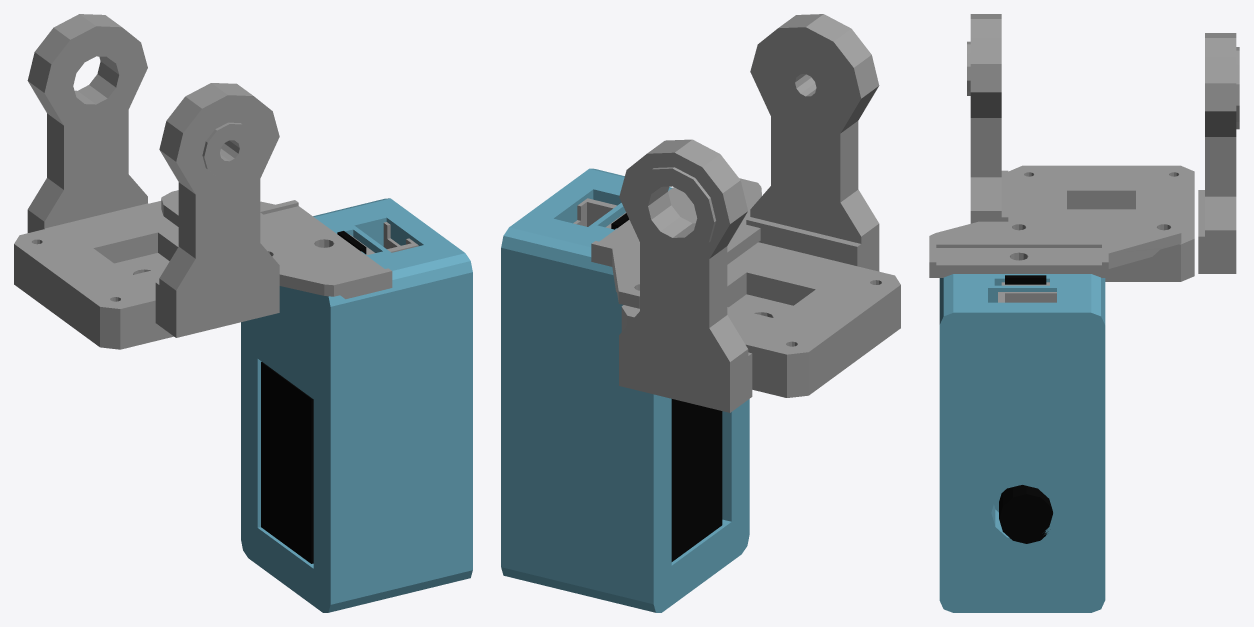
File: head-reye-y.glb
3 renders of one model, left to right at view 1: azimuth 30°, elevation 25°; view 2: azimuth 150°, elevation 25°; view 3: azimuth 270°, elevation 25°, orthographic. The views are drawn at different scales.
Bounding box in the file's own units: 0.0507 × 0.0785 × 0.045.
